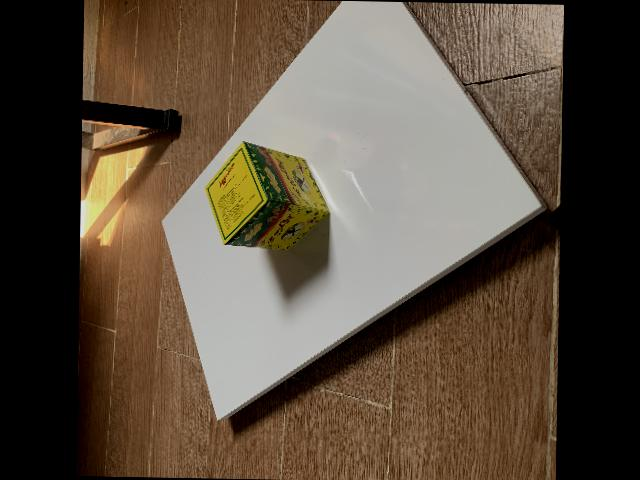luong_kho: (205, 140, 330, 249)
